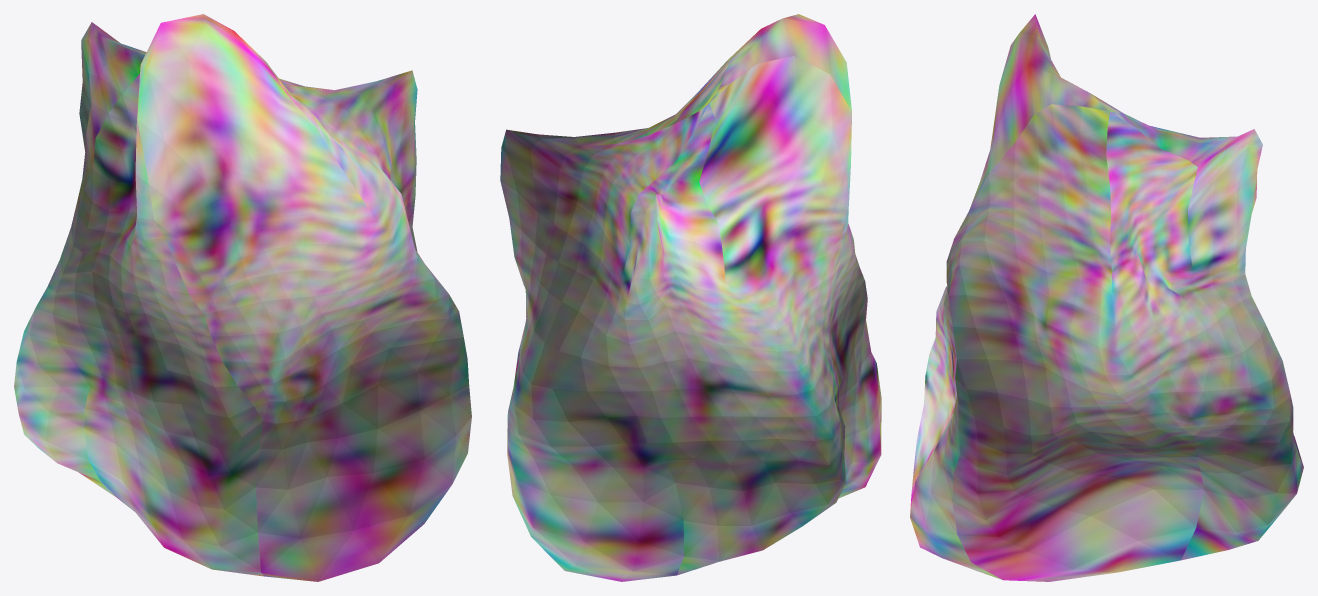
The picture shows the model from 3 angles, left to right: view 1: azimuth 30°, elevation 25°; view 2: azimuth 150°, elevation 25°; view 3: azimuth 270°, elevation 25°; orthographic projection. The views are drawn at different scales.
Parts seen in each view (by area): view 1: pMesh1; view 2: pMesh1; view 3: pMesh1.
Boxes of the visible parts, x1,y1,x2,y2 form: pMesh1: (14,14,471,581); pMesh1: (500,14,881,581); pMesh1: (910,14,1303,581).
Bounding box in the file's own units: 2.51 × 3.45 × 2.56.
Materials: 1 (1 with a texture image).
